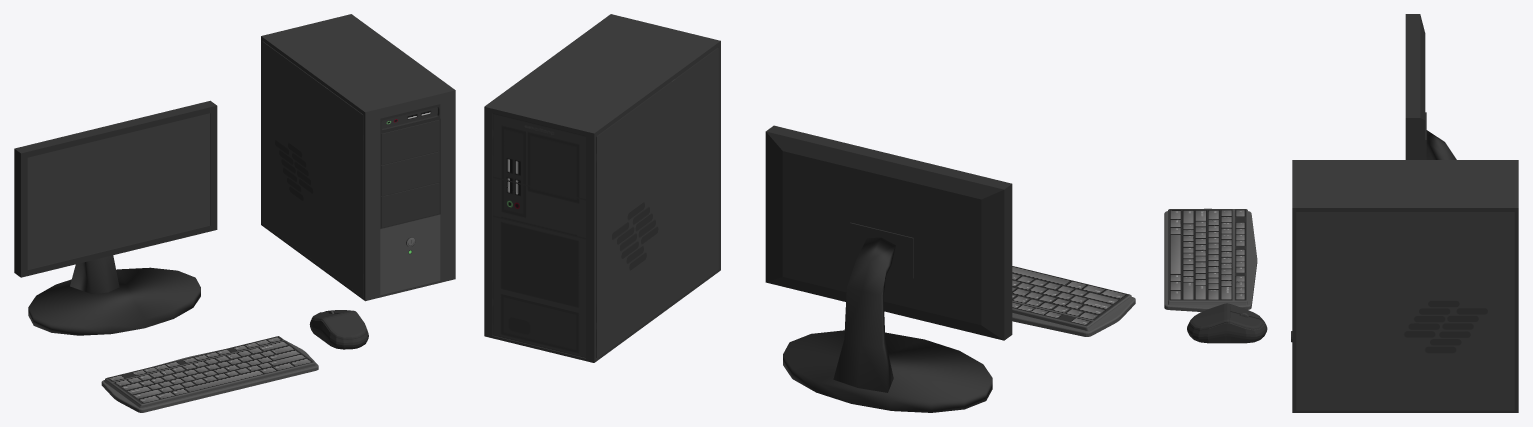
Rendered from office pc.fbx.
3 renders of one model, left to right at view 1: azimuth 30°, elevation 25°; view 2: azimuth 150°, elevation 25°; view 3: azimuth 270°, elevation 25°, orthographic. The views are drawn at different scales.
Visible parts, largest first — view 1: monitor; view 2: monitor; view 3: monitor.
Boxes of the visible parts, x1,y1,x2,y2 form: monitor: (14,14,455,412); monitor: (484,14,1135,412); monitor: (1164,14,1518,412).
Bounding box in the file's own units: 85.12 × 40.16 × 62.9.
4 materials, 4 textured.
